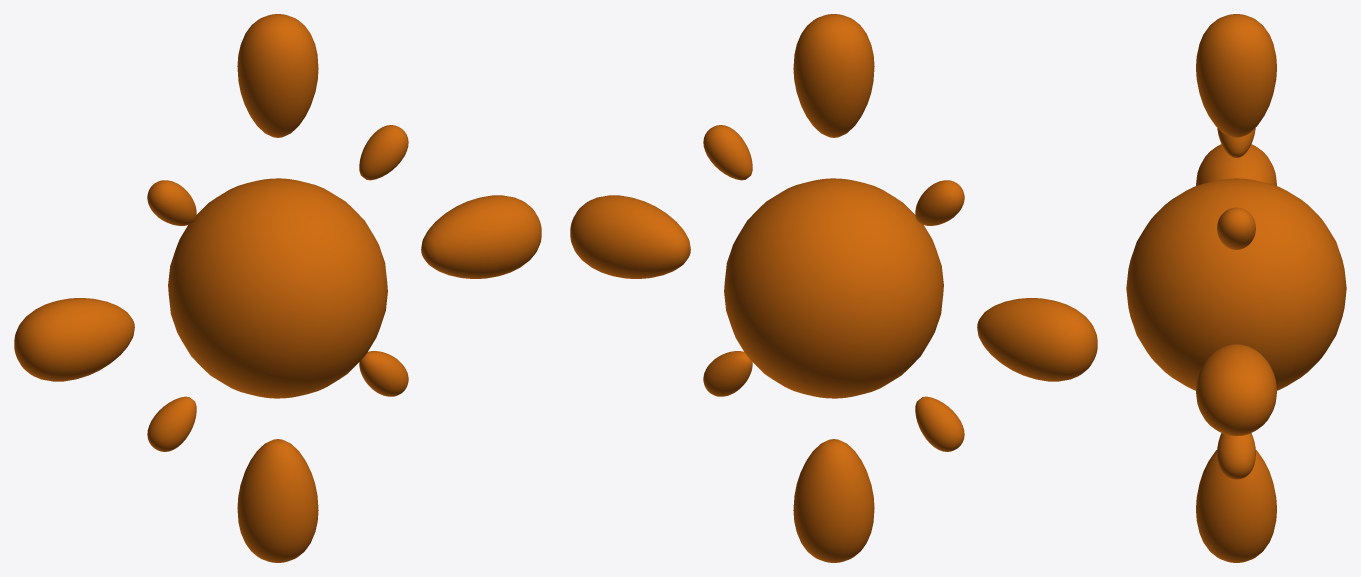
Rendered from Sun.obj.
The picture shows the model from 3 angles, left to right: view 1: azimuth 30°, elevation 25°; view 2: azimuth 150°, elevation 25°; view 3: azimuth 270°, elevation 25°; orthographic projection.
Visible parts, largest first — view 1: Sphere; view 2: Sphere; view 3: Sphere.
Boxes of the visible parts, left/top/right/bottom form: Sphere: left=14, top=14, right=541, bottom=562; Sphere: left=570, top=14, right=1097, bottom=562; Sphere: left=1126, top=14, right=1346, bottom=562.
Size of the model in its own units: 3.74 by 3.74 by 1.38.
